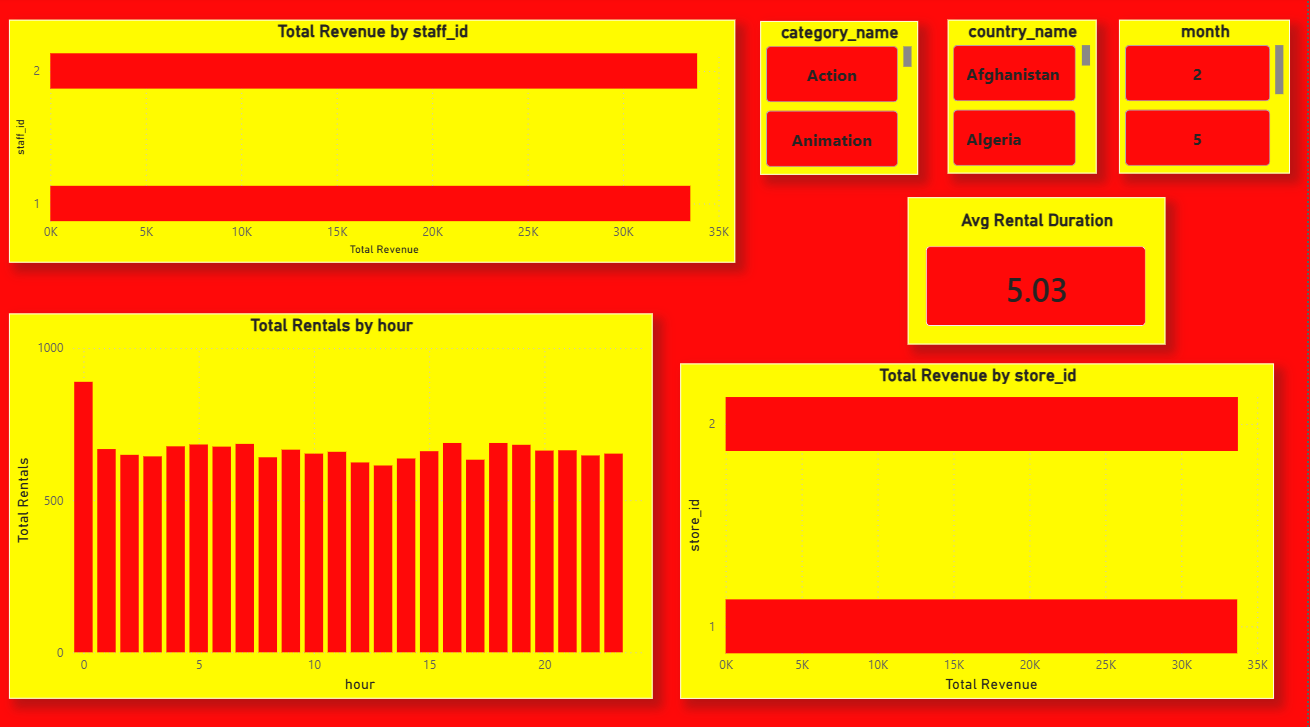

This screenshot's page, from the dashboard's own definition file:
{"tool":"powerbi","page":{"name":"Staff & Operation Analysis","canvas":[1280,720],"ordinal":4},"visuals":[{"type":"barChart","fields":{"Y":["rental.Total Revenue"],"Category":["rental.staff_id"]},"box":[9.8,23.2,710.5,237.2],"z":0},{"type":"cardVisual","title":"Avg Rental Duration","fields":{"Data":["Avg(rental.Rental Duration)"]},"box":[889,196.9,251.9,144.3],"z":1000},{"type":"columnChart","fields":{"Category":["rental.hour"],"Y":["rental.Total Rentals"]},"box":[9.8,310.6,629.8,376.6],"z":2000},{"type":"barChart","fields":{"Category":["rental.store_id"],"Y":["rental.Total Revenue"]},"box":[666.4,359.5,580.8,327.7],"z":3000},{"type":"advancedSlicerVisual","fields":{"Values":["rental.month"]},"box":[1095.7,23.2,167.5,150.4],"z":4000},{"type":"advancedSlicerVisual","fields":{"Values":["rental.category_name"]},"box":[744.7,24.5,154.1,150.4],"z":5000},{"type":"advancedSlicerVisual","fields":{"Values":["rental.country_name"]},"box":[928.1,23.2,145.5,150.4],"z":6000}]}

Visuals, with their boxes in screenshot pixels (x1, y1, x2, y2), scaled from the page's 1280x720 canvas onto the 1310x727 screenshot:
barChart - rental.Total Revenue x rental.staff_id: (x1=10, y1=23, x2=737, y2=263)
"Avg Rental Duration" cardVisual: (x1=910, y1=199, x2=1168, y2=345)
columnChart - rental.hour x rental.Total Rentals: (x1=10, y1=314, x2=655, y2=694)
barChart - rental.store_id x rental.Total Revenue: (x1=682, y1=363, x2=1276, y2=694)
advancedSlicerVisual - rental.month: (x1=1121, y1=23, x2=1293, y2=175)
advancedSlicerVisual - rental.category_name: (x1=762, y1=25, x2=920, y2=177)
advancedSlicerVisual - rental.country_name: (x1=950, y1=23, x2=1099, y2=175)
